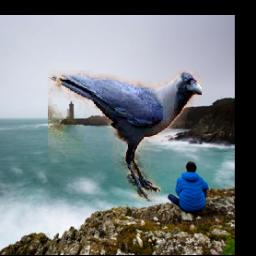Crow: (49, 70, 203, 202)
